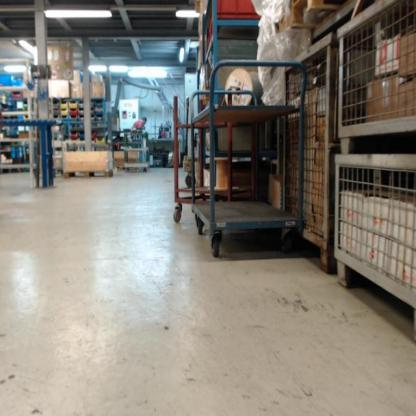pallet: (288, 0, 342, 30), (63, 169, 114, 180), (116, 165, 140, 172)
small_load_carrier: (202, 2, 266, 50)
stillage: (269, 29, 338, 283), (333, 150, 415, 344), (330, 2, 414, 156)
